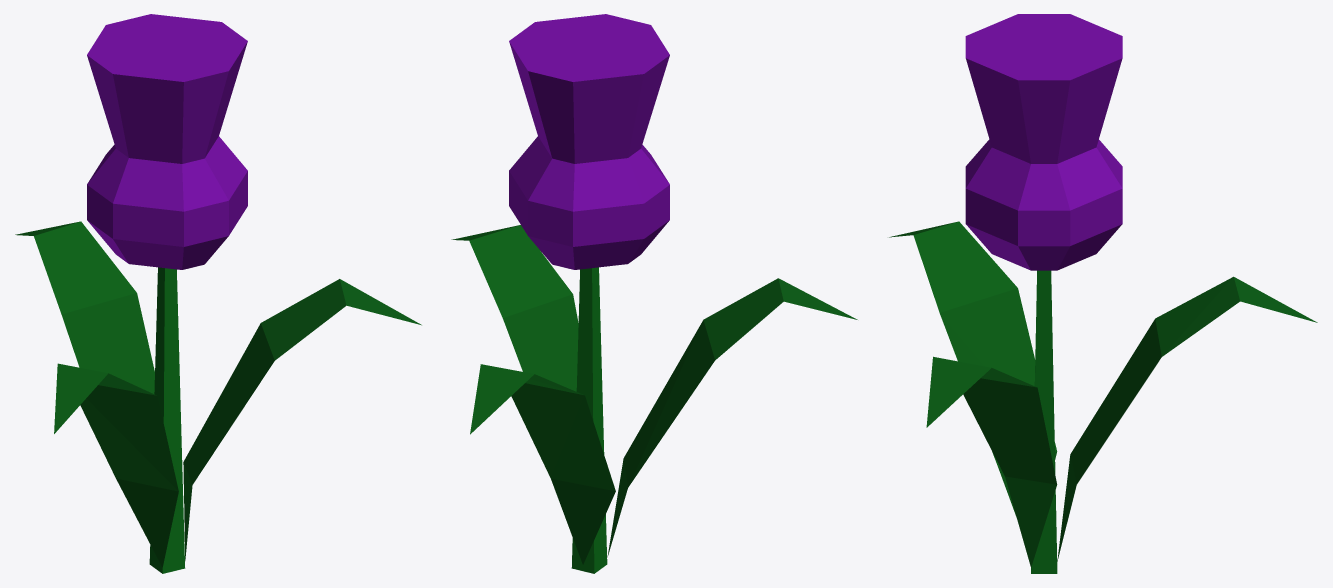
The model's file is obj_thistle_0.obj.
3 renders of one model, left to right at view 1: azimuth 30°, elevation 25°; view 2: azimuth 150°, elevation 25°; view 3: azimuth 270°, elevation 25°, orthographic.
Size of the model in its own units: 0.5391 by 0.6875 by 0.5156.
